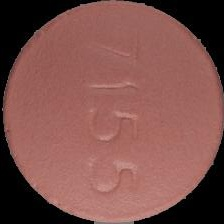0179-1897: (0, 0, 224, 224)
